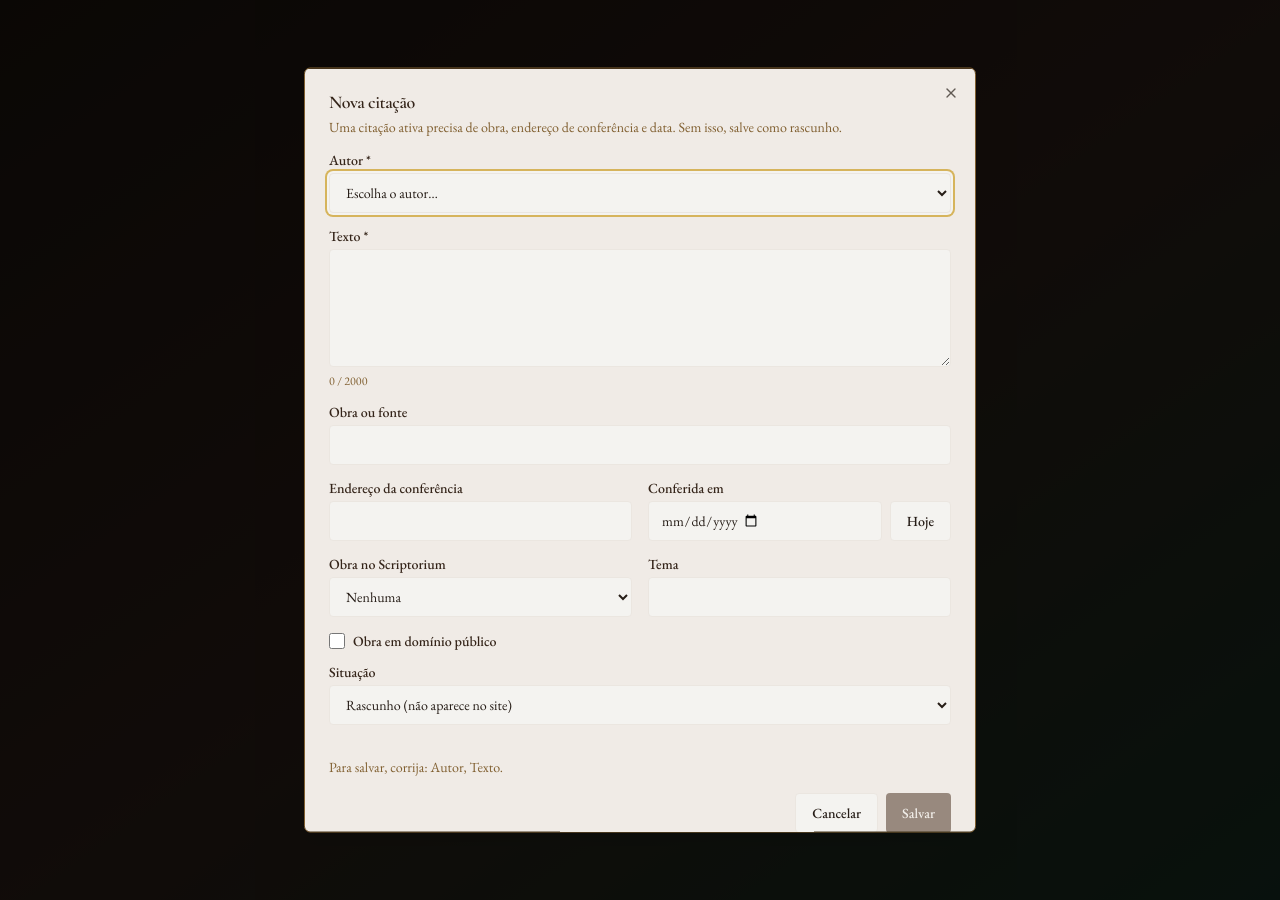
Scenario: QuoteFormDialog › mostra erros ao vivo e mantém Salvar desabilitado enquanto inválido
The image size is (1280, 900).
expect the button "Salvar" is disabled: met, box [886,792,951,832]
Step 1. Select "Santo Agostinho" in the dropdown labelled "Autor *" → (640, 192), box [329,172,951,212]
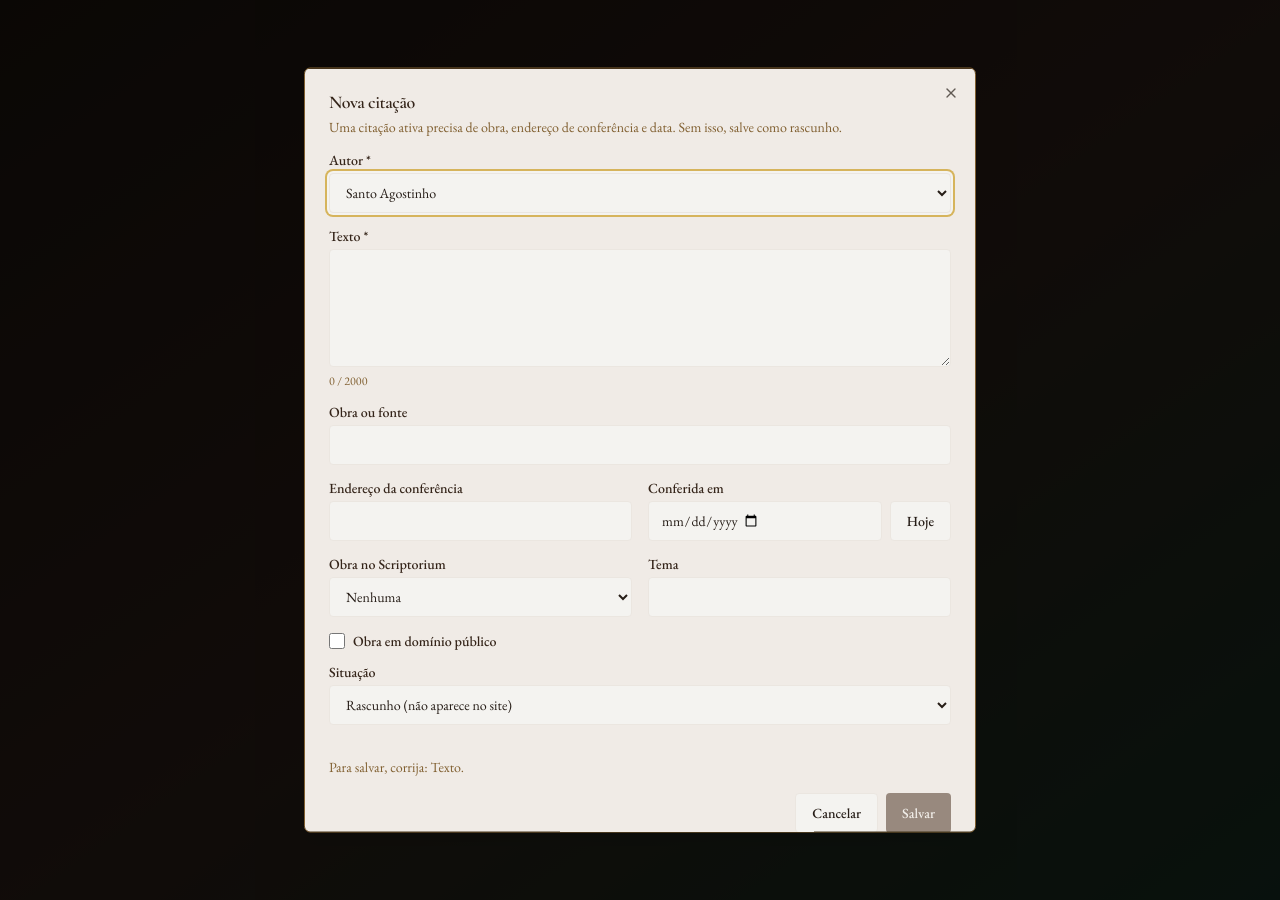
Step 2. Type "a" into the text box labelled "Texto *" → (640, 308), box [329,248,951,366]
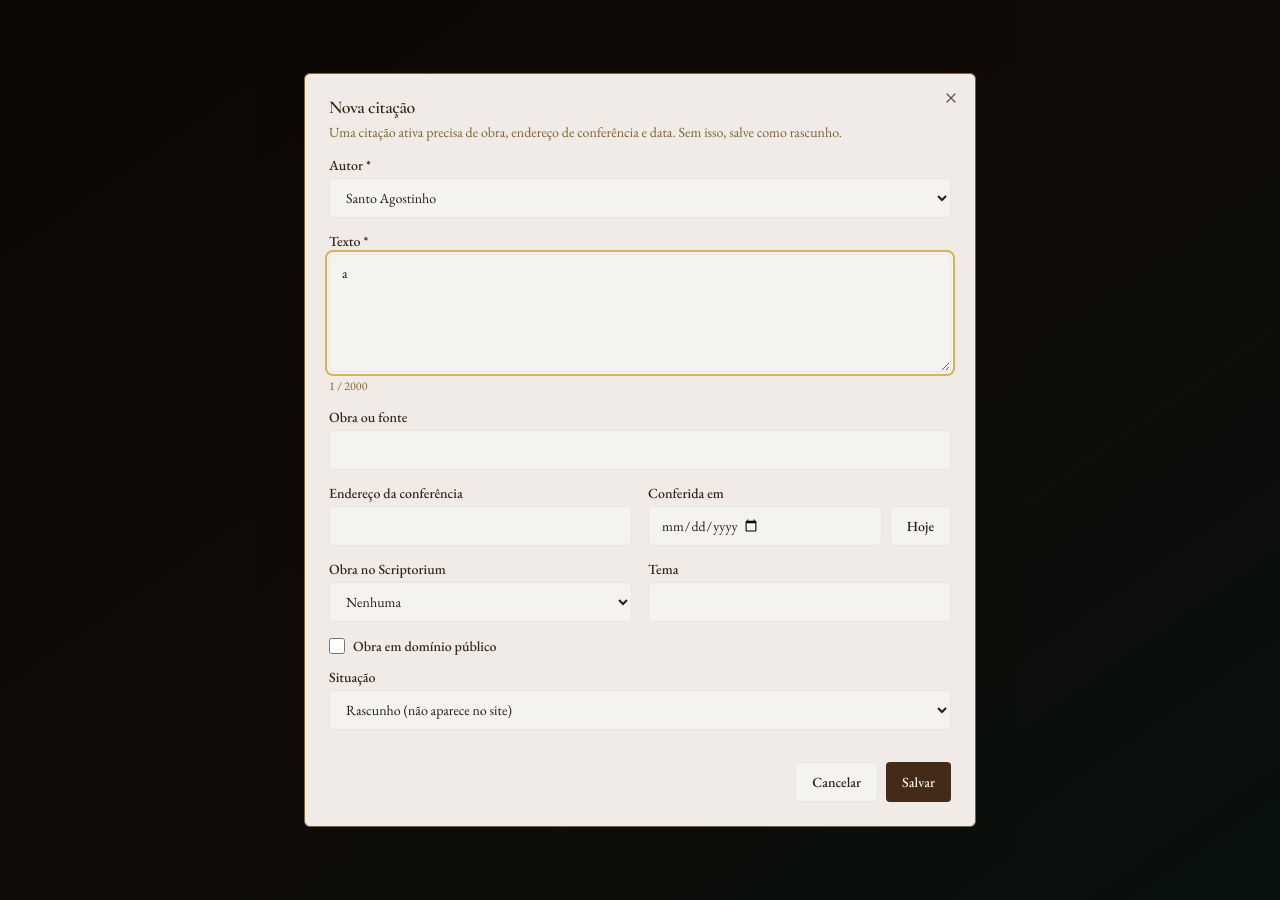
Step 3. Clear the text box labelled "Texto *" → (640, 313), box [329,254,951,372]
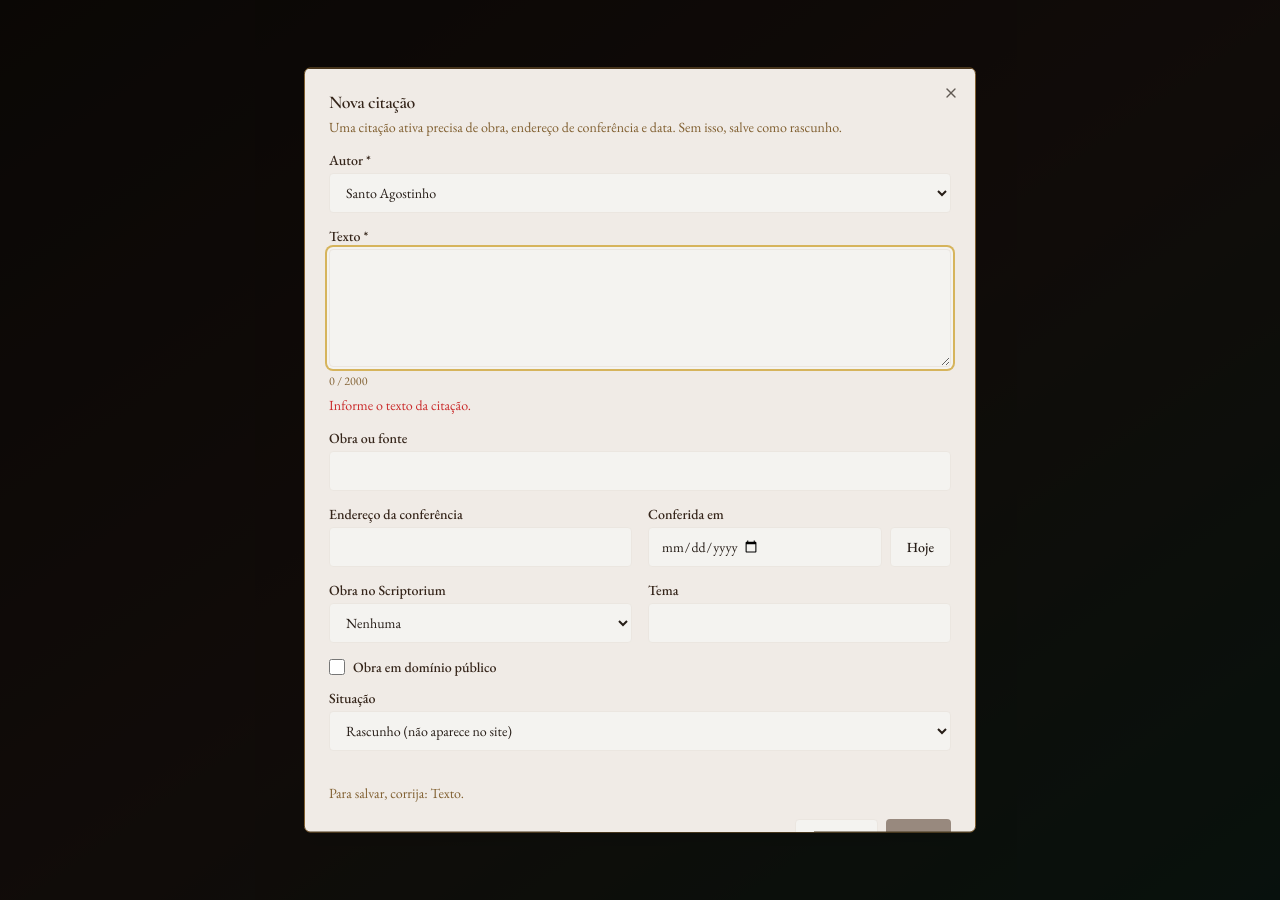
expect the text "Informe o texto da citação." is shown: met, box [329,396,471,414]
Step 4. Type "Agora sim." into the text box labelled "Texto *" → (640, 308), box [329,248,951,366]
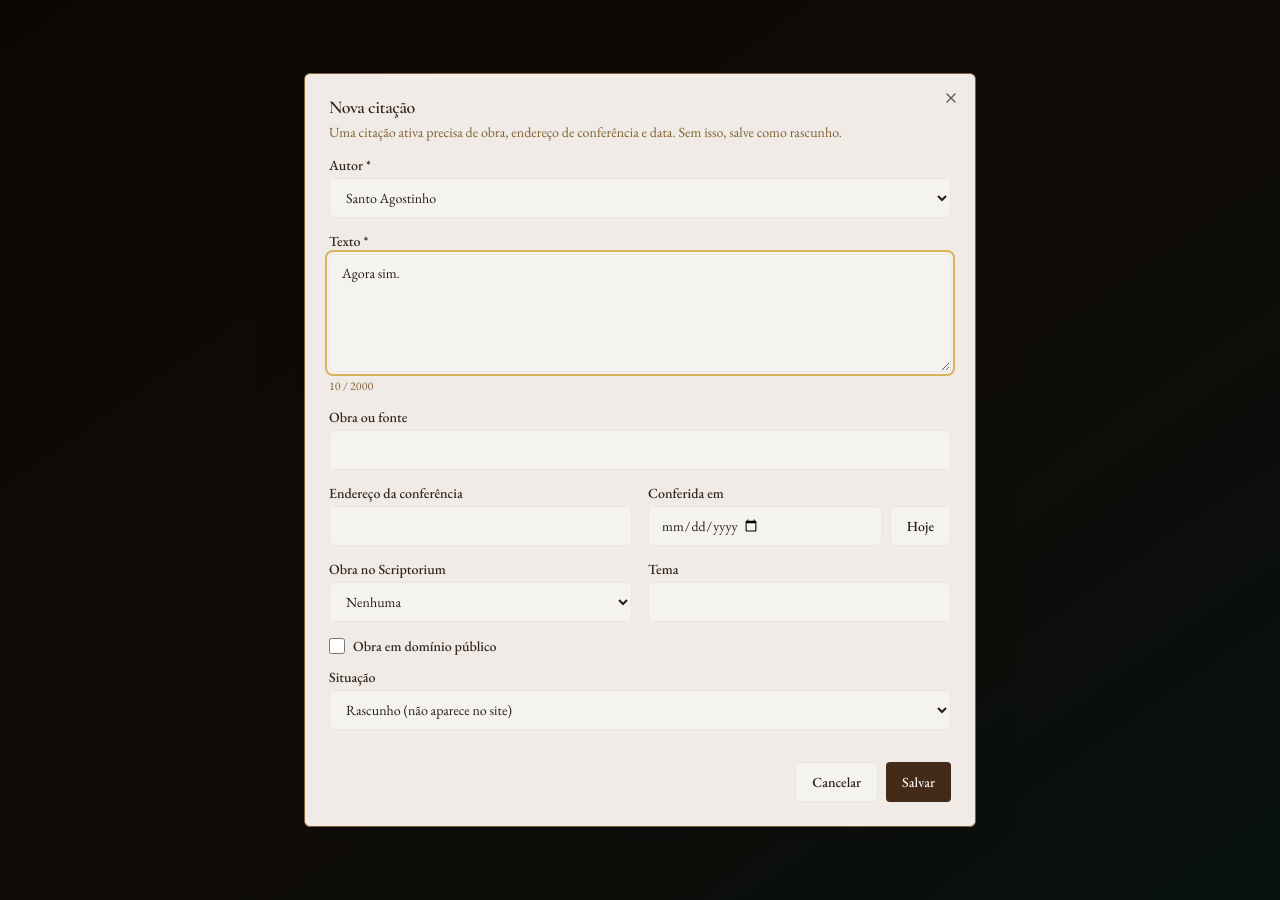
expect the button "Salvar" is enabled: met, box [886,762,951,802]
